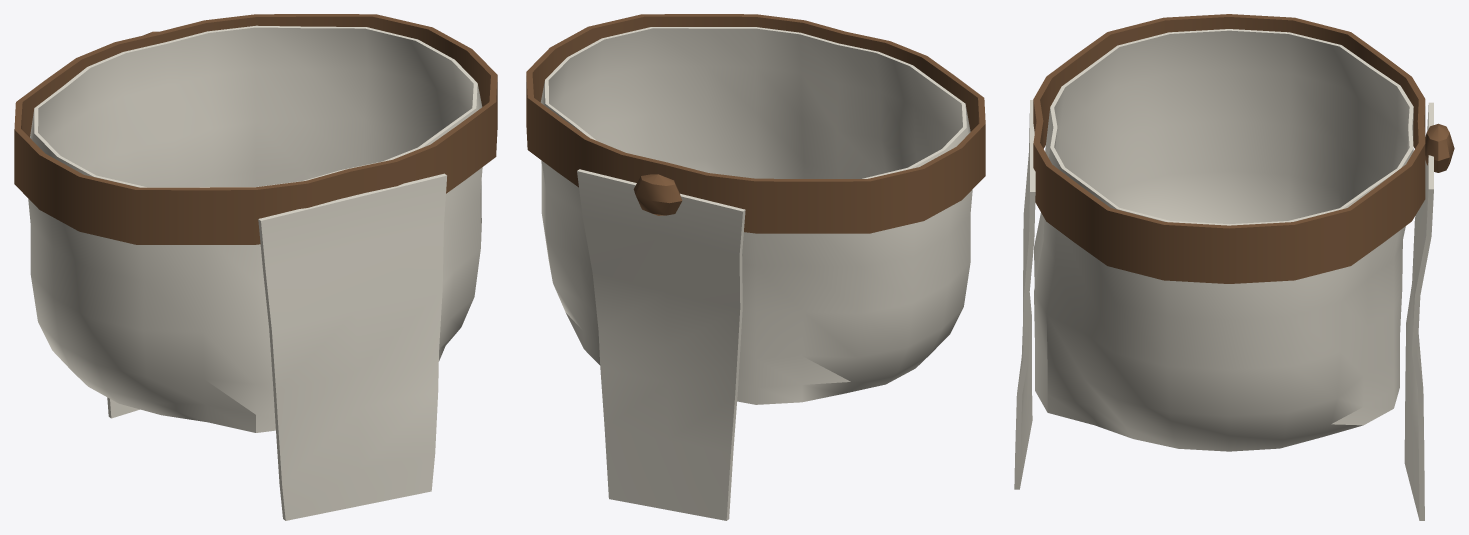
Rendered from subligaculum.glb.
The picture shows the model from 3 angles, left to right: view 1: azimuth 30°, elevation 25°; view 2: azimuth 150°, elevation 25°; view 3: azimuth 270°, elevation 25°; orthographic projection. The views are drawn at different scales.
Parts seen in each view (by area): view 1: OUT; view 2: OUT; view 3: OUT.
Boxes of the visible parts, x1,y1,x2,y2 form: OUT: [14, 14, 497, 520]; OUT: [526, 14, 985, 520]; OUT: [1014, 14, 1454, 520].
Bounding box in the file's own units: 0.3721 × 0.3 × 0.3227.
